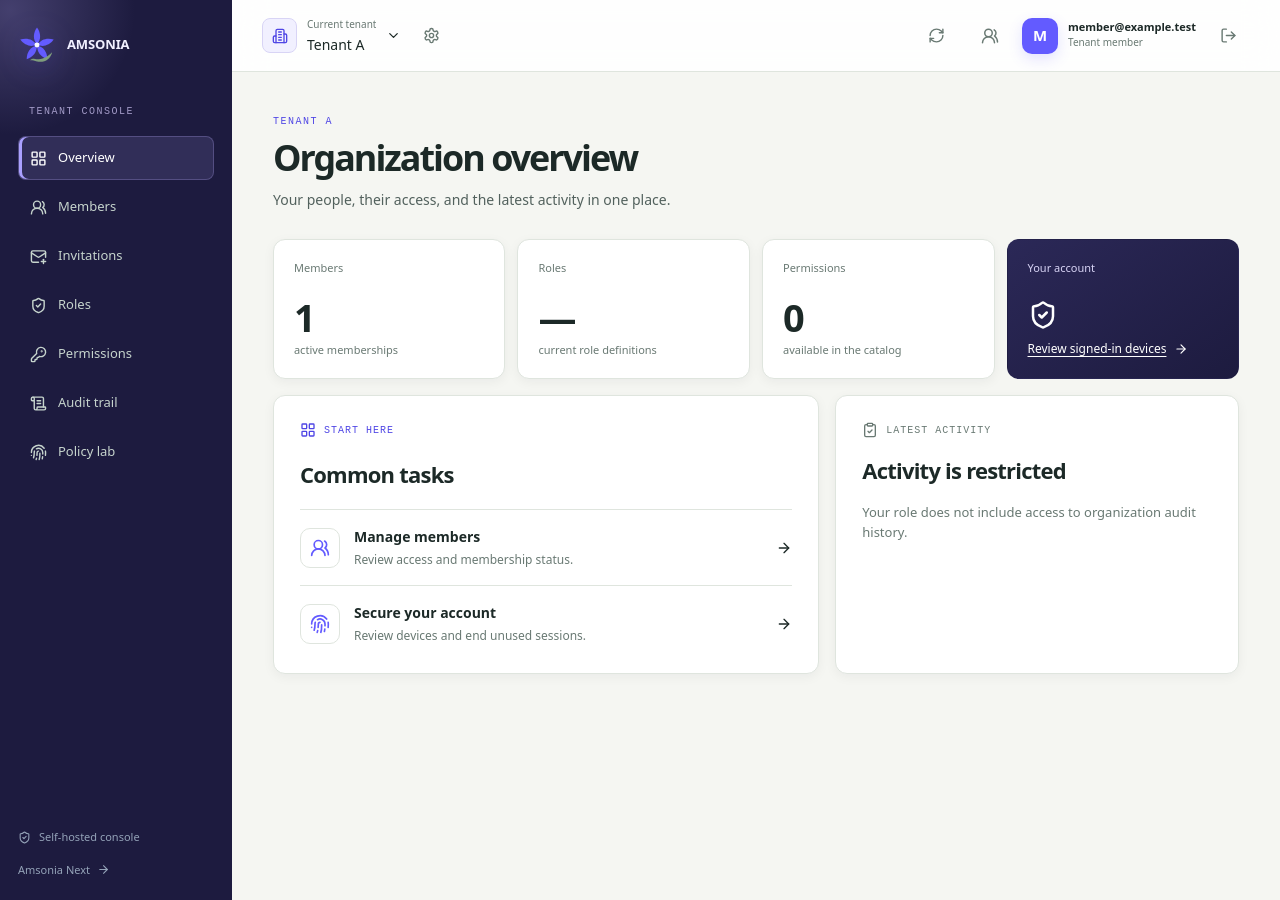
Test: keeps the sign-out control available after a failed sign-out
Expected: the heading "Organization overview" is shown, [273,137,670,178]
Click the button named "Sign out". click: (1228, 36)
box: [1206,14,1250,58]
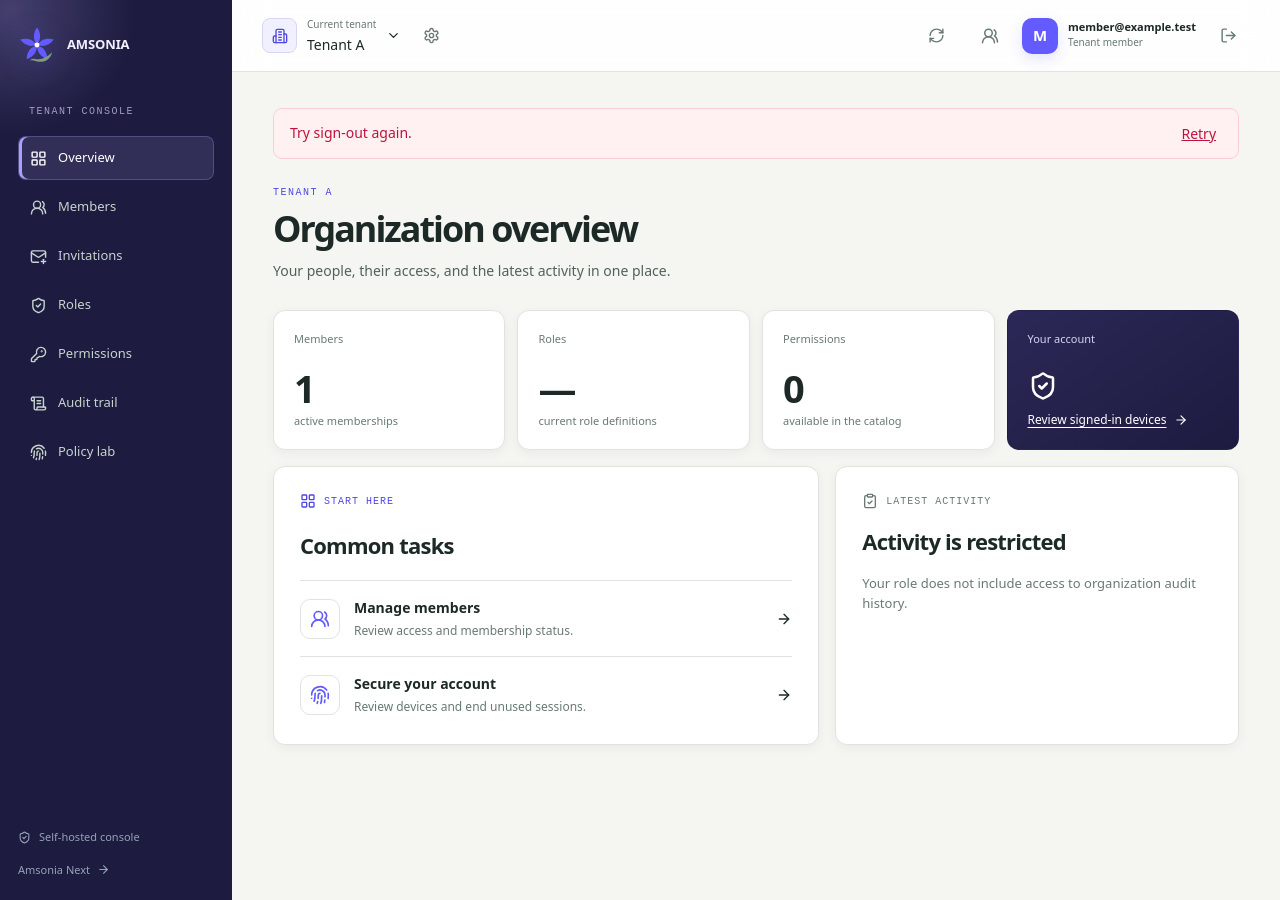
Expected: the message "Try sign-out again. Retry" is shown, [273,108,1239,159]
Click the button named "Sign out". click: (1228, 36)
box: [1206,14,1250,58]
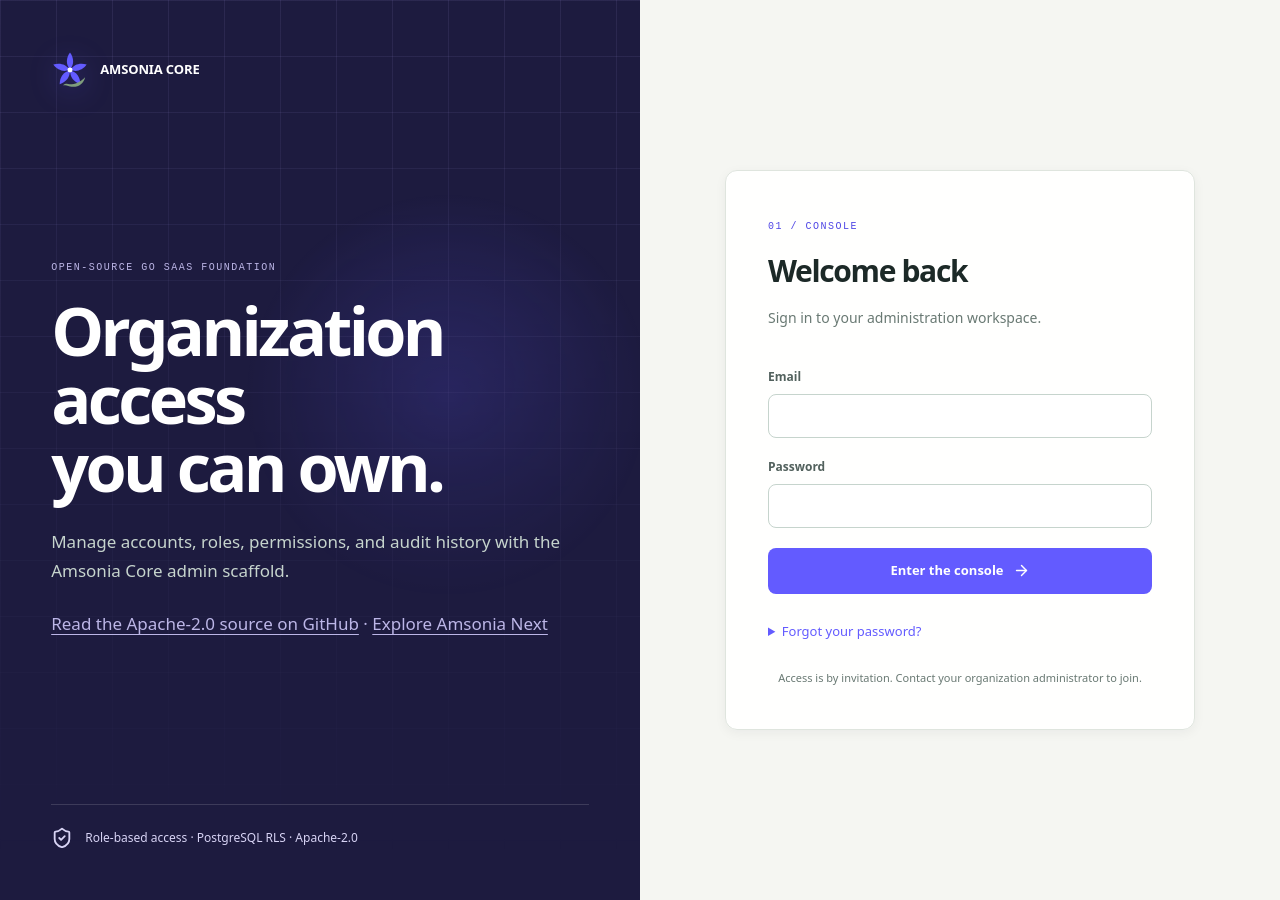
Expected: the heading "Welcome back" is shown, [768,250,967,291]
